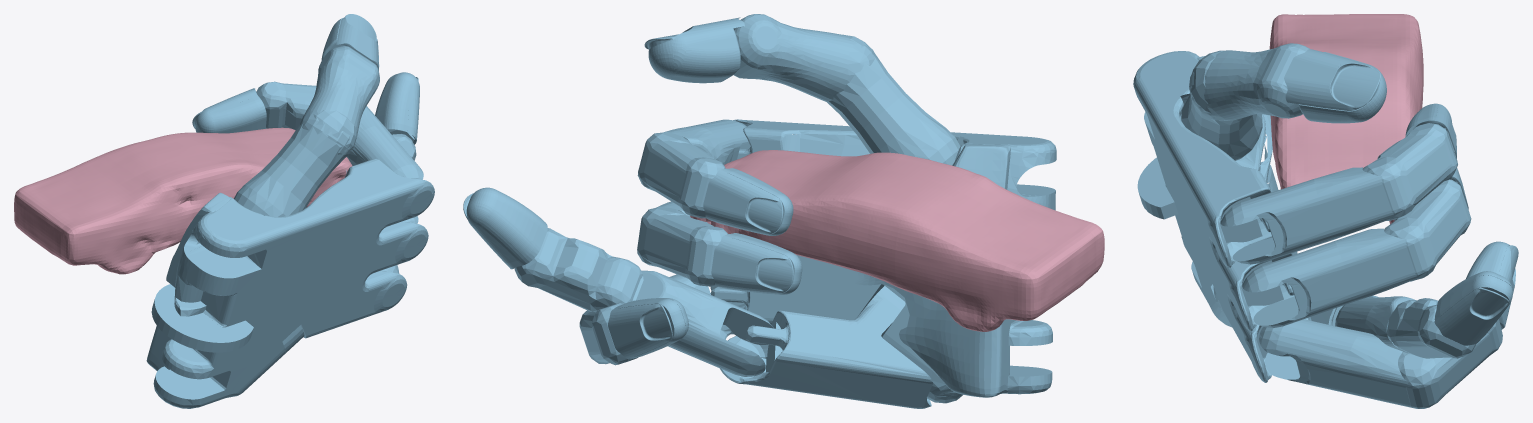
3 renders of one model, left to right at view 1: azimuth 30°, elevation 25°; view 2: azimuth 150°, elevation 25°; view 3: azimuth 270°, elevation 25°, orthographic. The views are drawn at different scales.
Parts seen in each view (by area): view 1: hand, world; view 2: hand, world; view 3: hand, world.
Boxes of the visible parts, x1,y1,x2,y2 form: hand: (146,14,434,408); world: (14,127,352,274); hand: (463,14,1056,408); world: (690,150,1104,331); hand: (1133,43,1518,408); world: (1269,14,1423,224).
Size of the model in its own units: 0.1916 by 0.1258 by 0.12.
